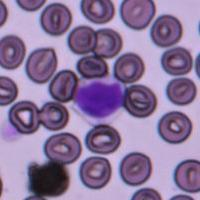L: (74, 75, 127, 125)
